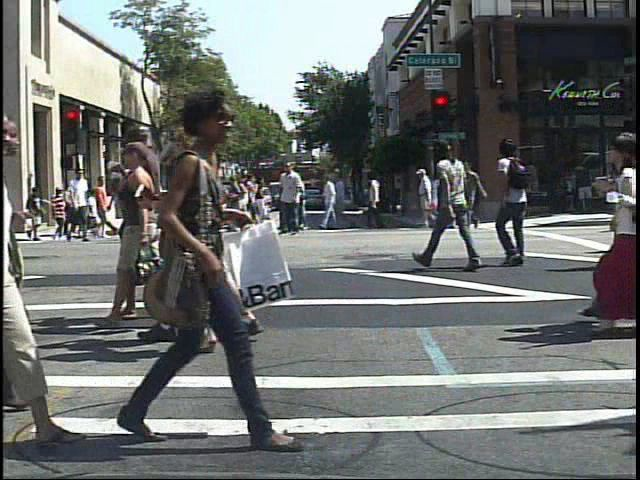person: (131, 77, 284, 455), (153, 95, 229, 348), (579, 119, 638, 346), (414, 129, 484, 271), (491, 133, 546, 275), (172, 154, 208, 248), (63, 164, 93, 246), (129, 160, 159, 241), (116, 162, 145, 243), (415, 166, 438, 227), (49, 183, 70, 241), (86, 182, 106, 224), (210, 123, 211, 353)
